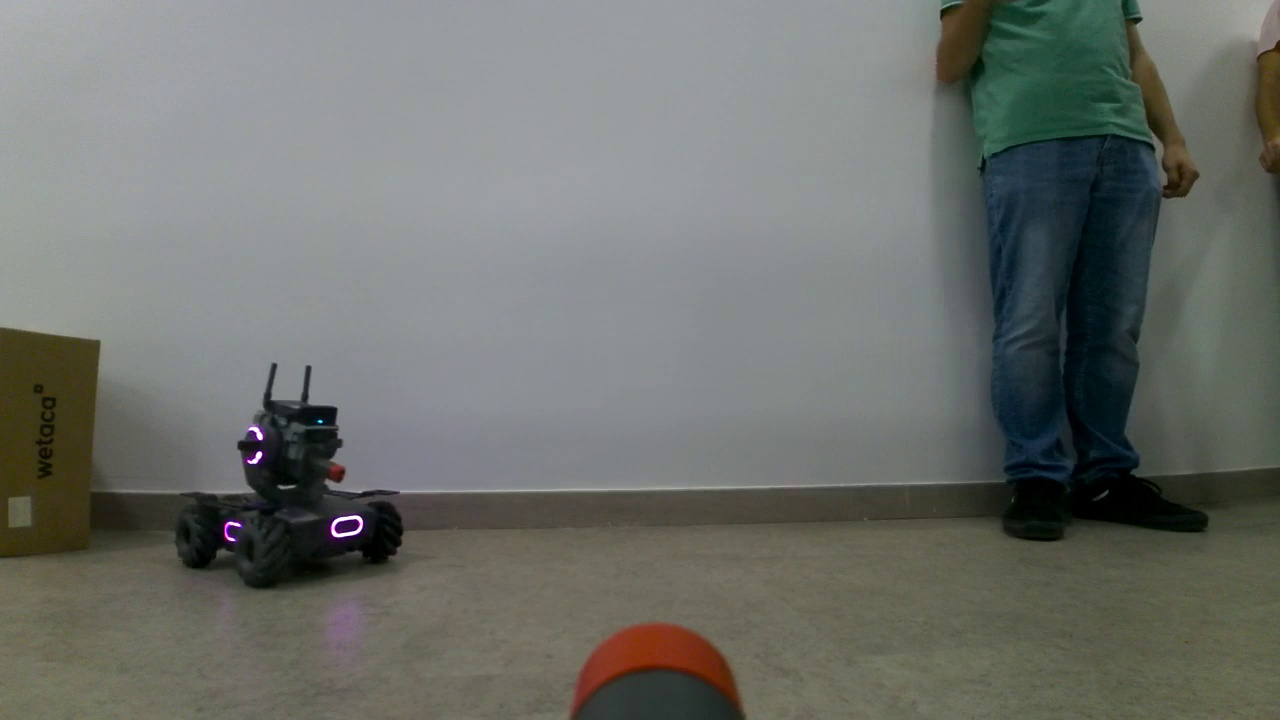robot: (173, 397, 409, 597)
